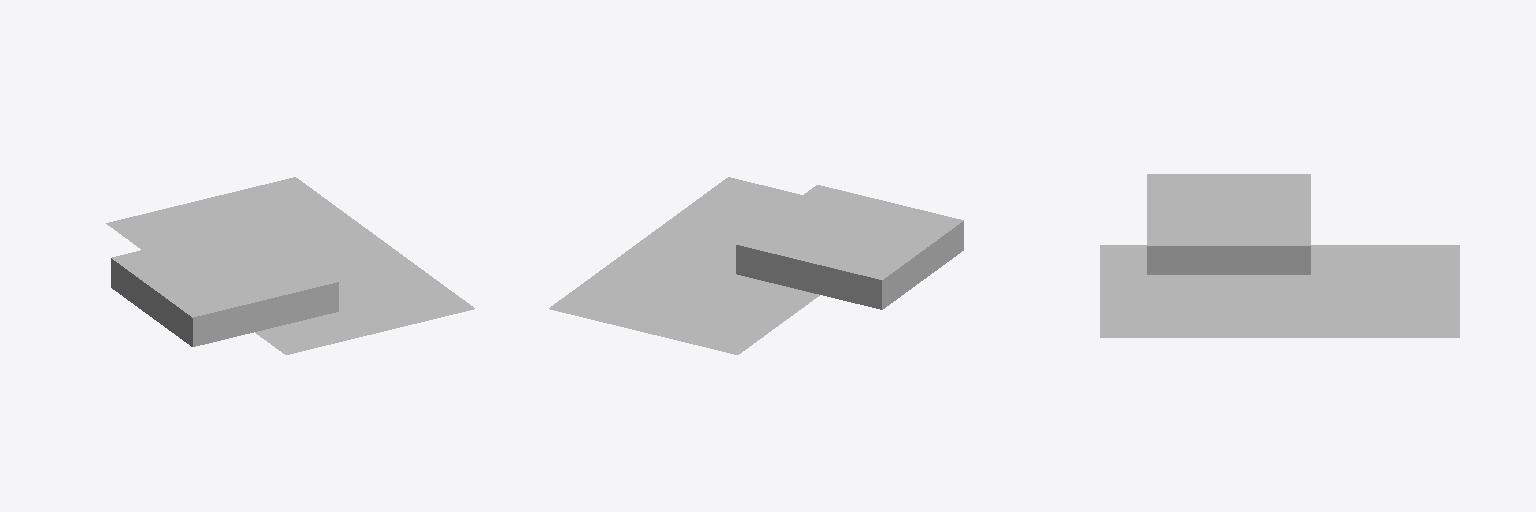
File: simplescene.obj
3 renders of one model, left to right at view 1: azimuth 30°, elevation 25°; view 2: azimuth 150°, elevation 25°; view 3: azimuth 270°, elevation 25°, orthographic.
Visible parts, largest first — view 1: Grid, Cube; view 2: Grid, Cube; view 3: Grid, Cube.
Part boxes in pixels (left/top/right/bottom): Grid: left=106, top=177, right=474, bottom=354; Cube: left=111, top=222, right=338, bottom=346; Grid: left=549, top=177, right=819, bottom=354; Cube: left=736, top=185, right=963, bottom=309; Grid: left=1100, top=245, right=1459, bottom=337; Cube: left=1147, top=174, right=1310, bottom=274.
Size of the model in its own units: 92.77 by 12.72 by 112.